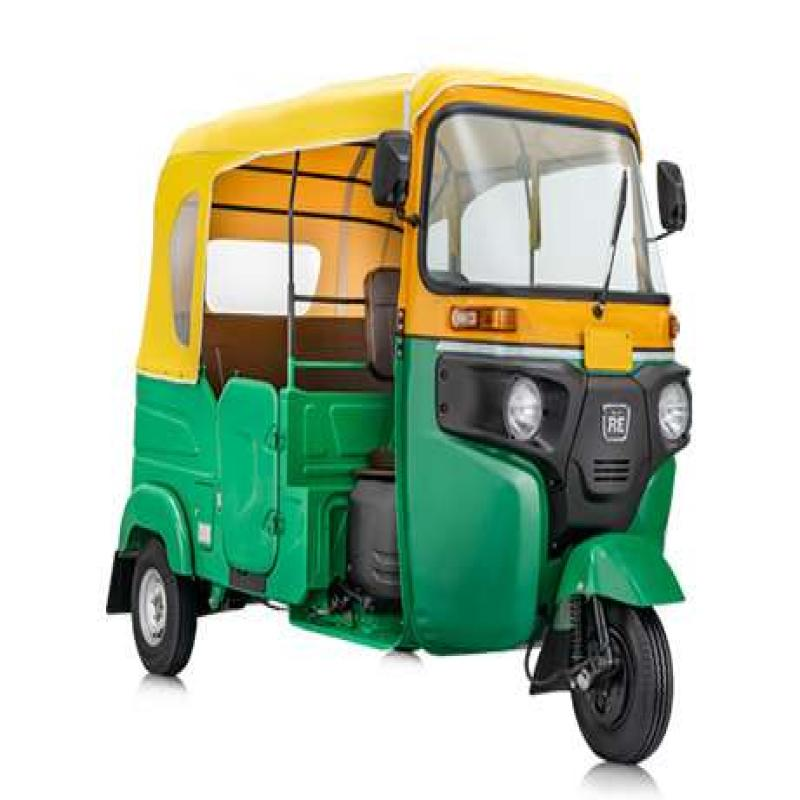auto: (75, 63, 694, 763)
